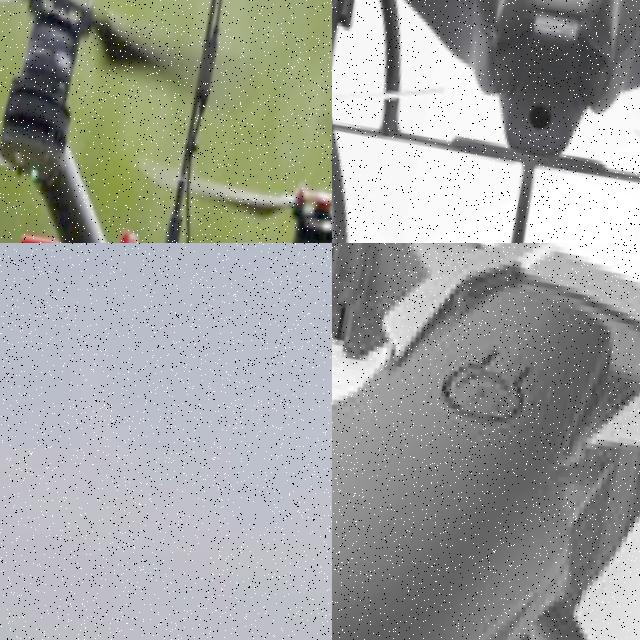drone: (332, 243, 640, 640), (0, 0, 332, 243), (332, 0, 640, 243)
